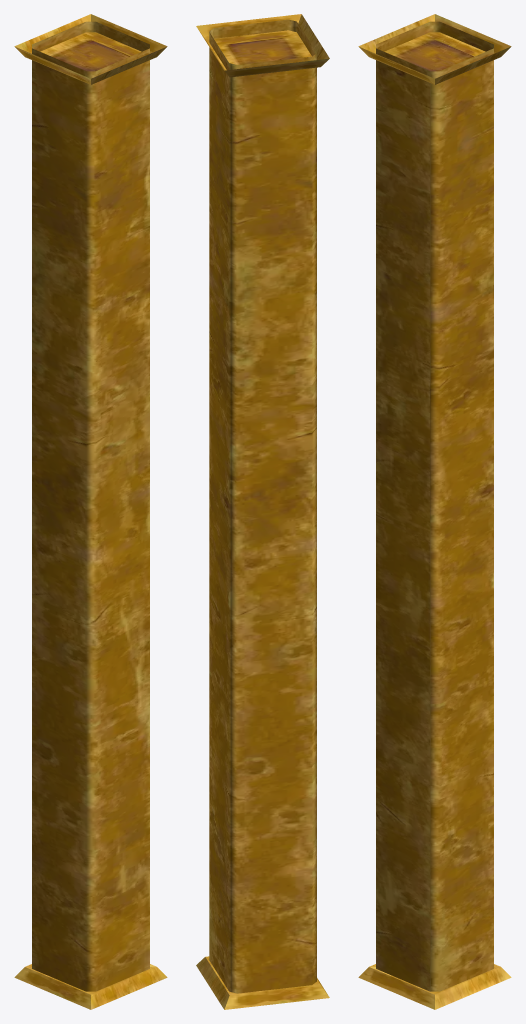
3 renders of one model, left to right at view 1: azimuth 90°, elevation 25°; view 2: azimuth 150°, elevation 25°; view 3: azimuth 270°, elevation 25°, orthographic.
Visible parts, largest first — view 1: SM_Dragonkin_Pipe_4m_01_v1_LOD0; view 2: SM_Dragonkin_Pipe_4m_01_v1_LOD0; view 3: SM_Dragonkin_Pipe_4m_01_v1_LOD0.
Boxes of the visible parts, <box> form: SM_Dragonkin_Pipe_4m_01_v1_LOD0: <box>14,14,167,1009</box>; SM_Dragonkin_Pipe_4m_01_v1_LOD0: <box>196,14,329,1009</box>; SM_Dragonkin_Pipe_4m_01_v1_LOD0: <box>358,14,511,1009</box>.
Bounding box in the file's own units: 0.597 × 4 × 0.597.
Materials: 1 (1 with a texture image).
